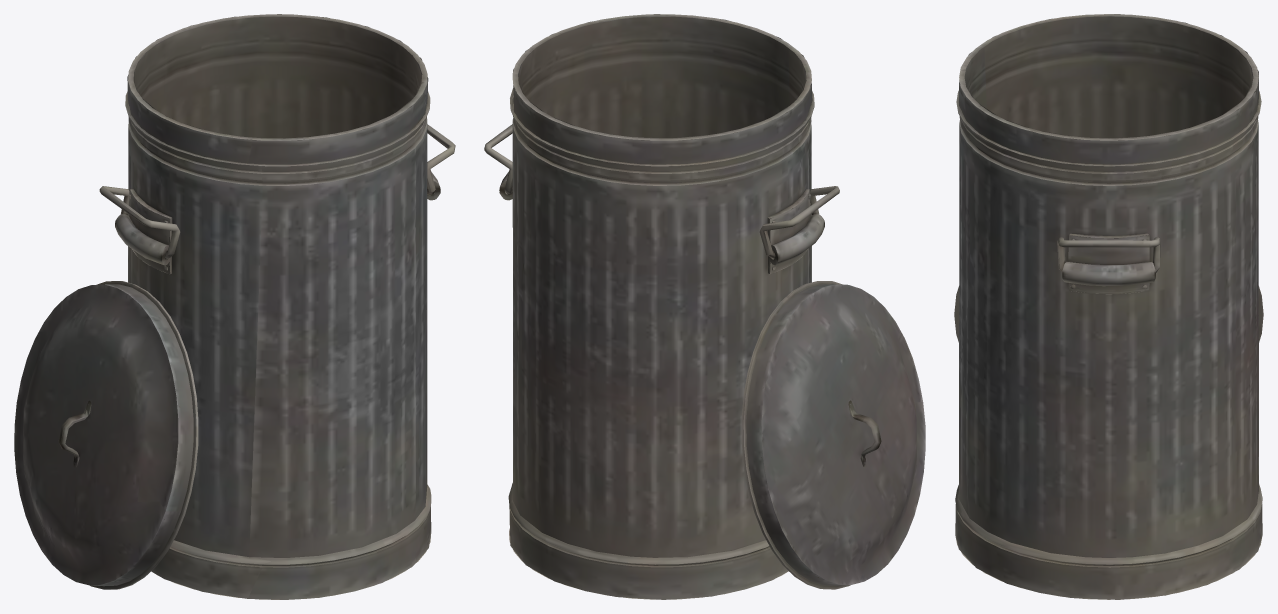
The model's file is trash-can.glb.
3 views of the same model, side by side, from view 1: azimuth 30°, elevation 25°; view 2: azimuth 150°, elevation 25°; view 3: azimuth 270°, elevation 25° (orthographic).
Visible parts, largest first — view 1: trash-can; view 2: trash-can; view 3: trash-can.
Part boxes in pixels (<box>): trash-can: <box>14,14,455,599</box>; trash-can: <box>484,14,925,599</box>; trash-can: <box>954,14,1263,599</box>.
Size of the model in its own units: 0.7781 by 0.9062 by 0.5552.
Materials: 1 (1 with a texture image).
